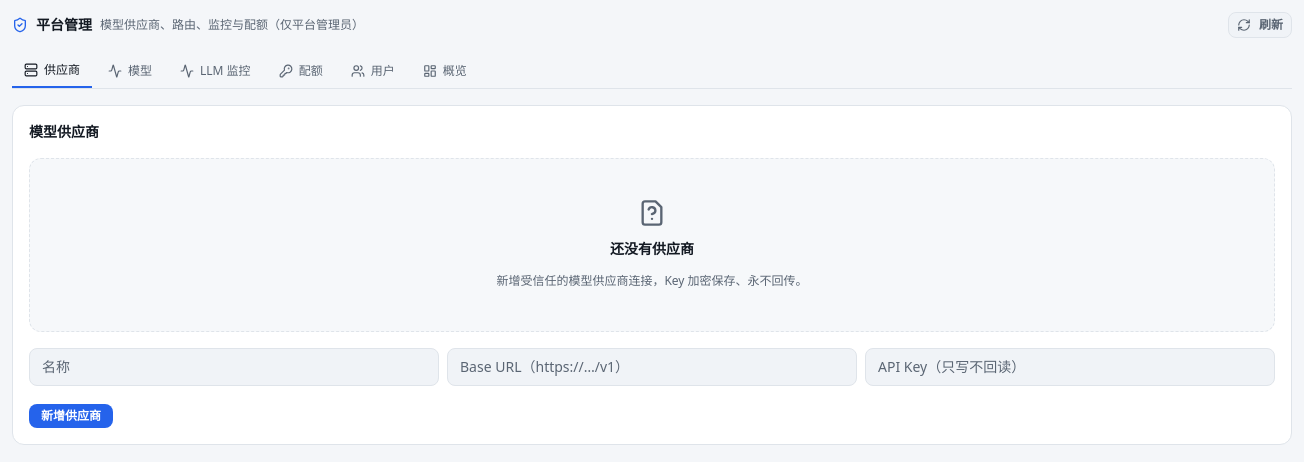
Test case: AdminPage 用户与概览视图 › 非管理员看到无权限提示且不展示列表
The image size is (1304, 462).
Click the button "用户" at (373,71), box x1=339 y1=54 x2=407 y2=88
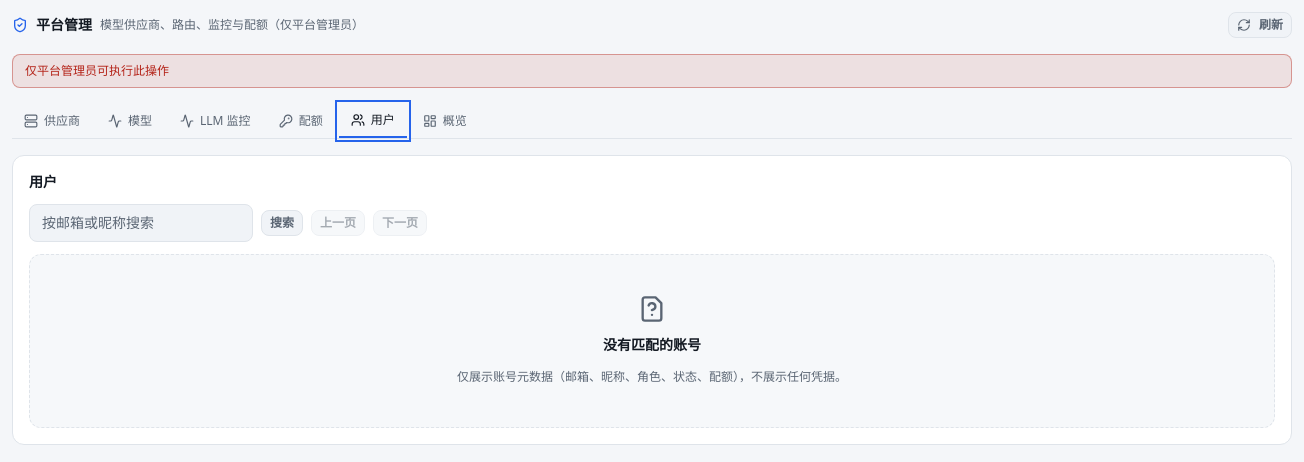
Now the message shows "仅平台管理员", box x1=25 y1=62 x2=169 y2=79
